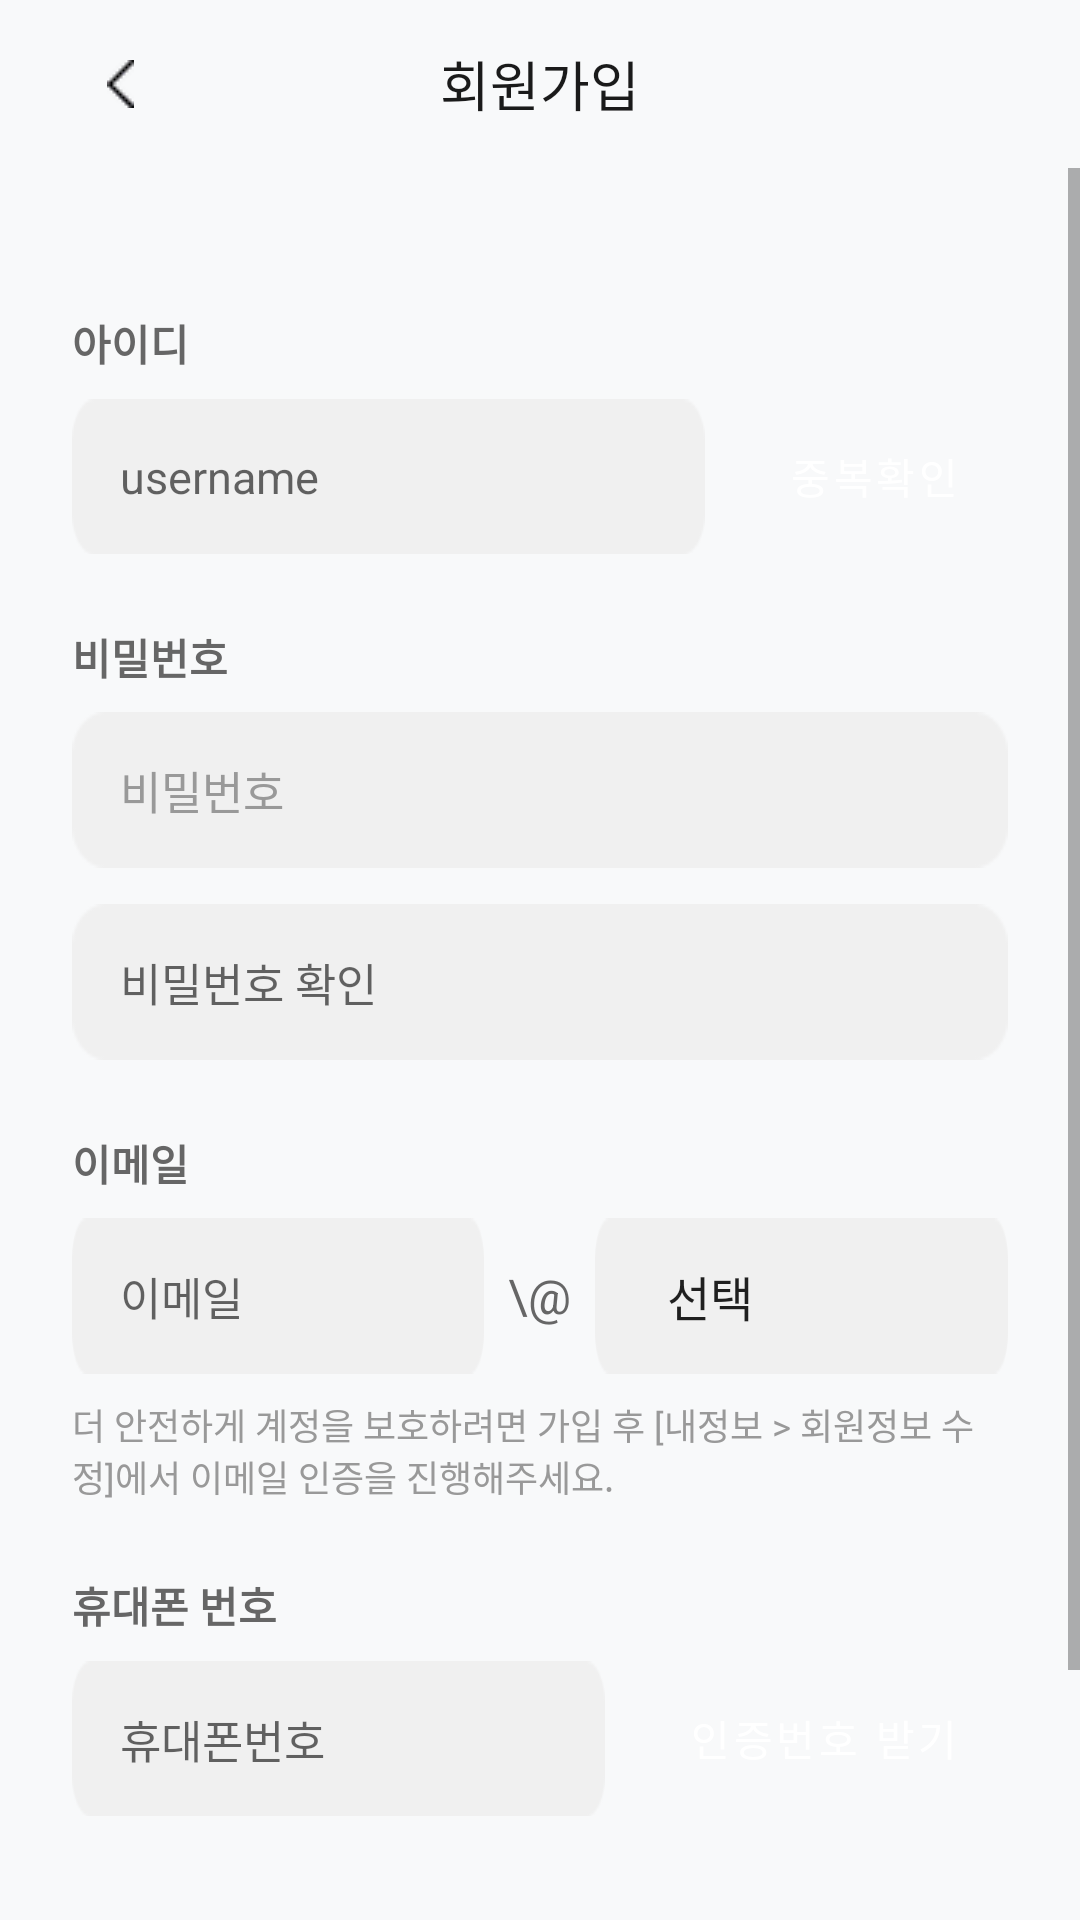

Icons on this 1080 x 1920 Android screen, each with its box as (x1, y1, x2, y2):
back: (107, 60, 134, 108)
